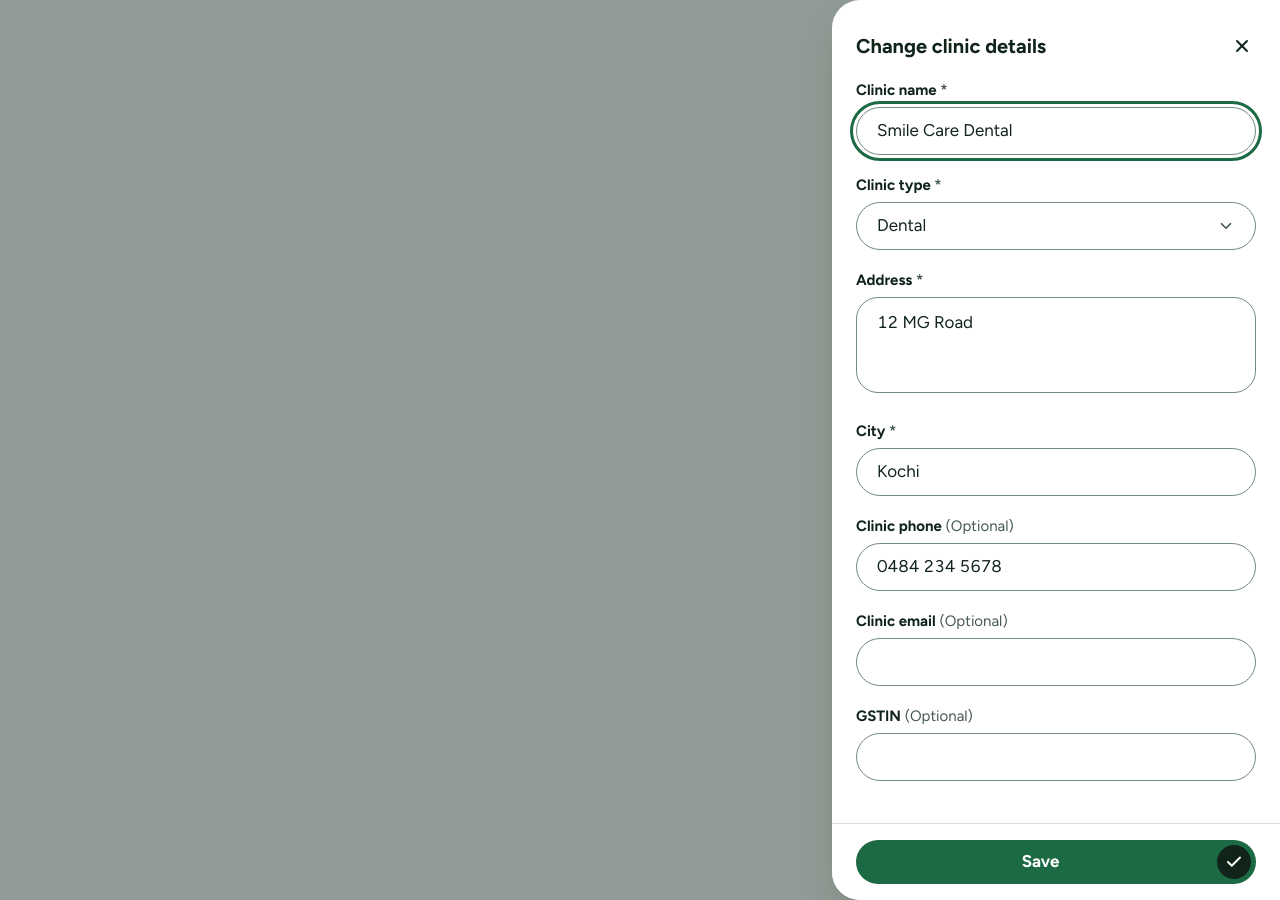
Test case: ClinicDetailsSheet (plan §9, D78) › keeps what was typed when the save fails, and says why
This screenshot has width=1280, height=900.
In the field labelled "City *": (1056,472) x1=856 y1=448 x2=1256 y2=496, type " East"
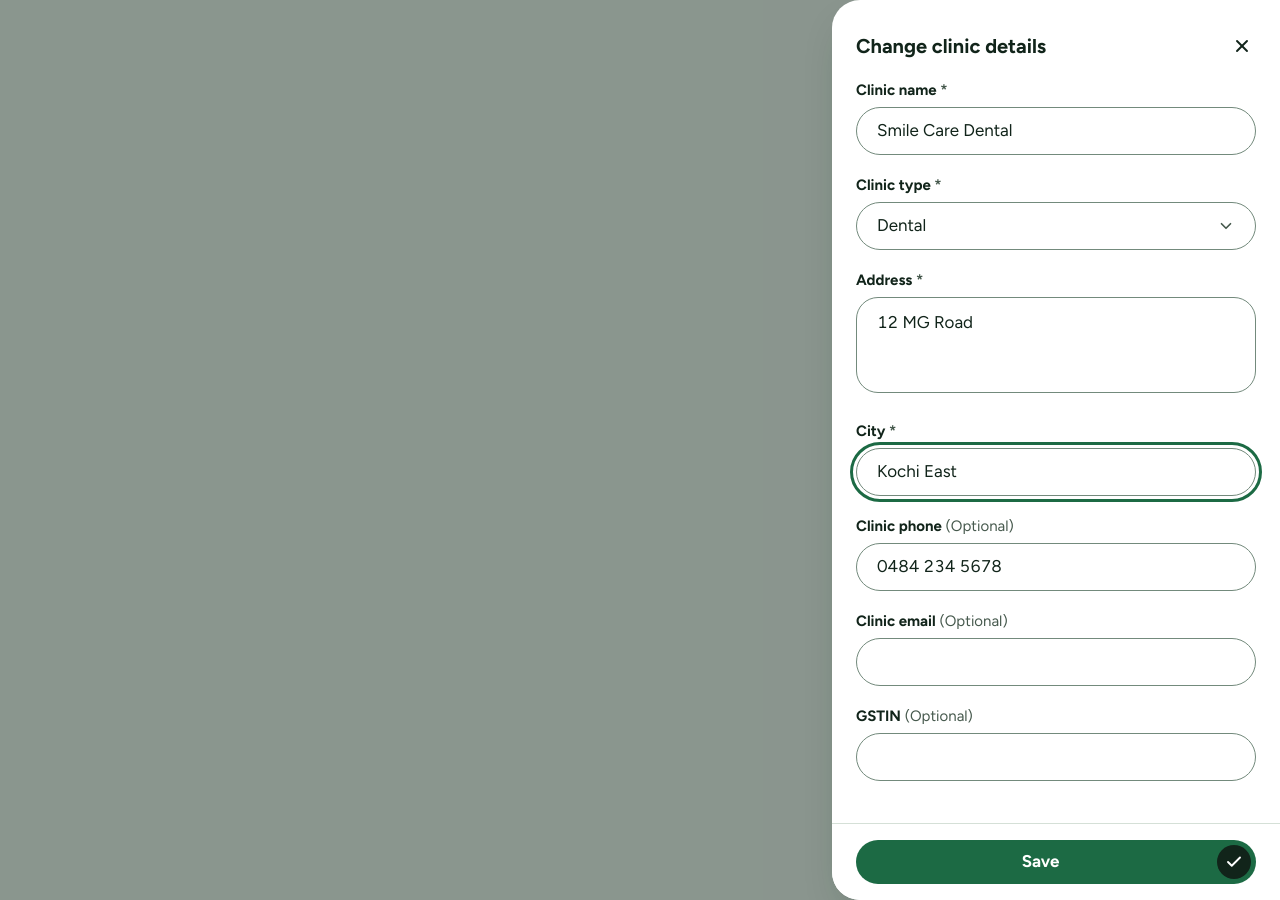
Click the button "Save": (1056,862) x1=856 y1=840 x2=1256 y2=884
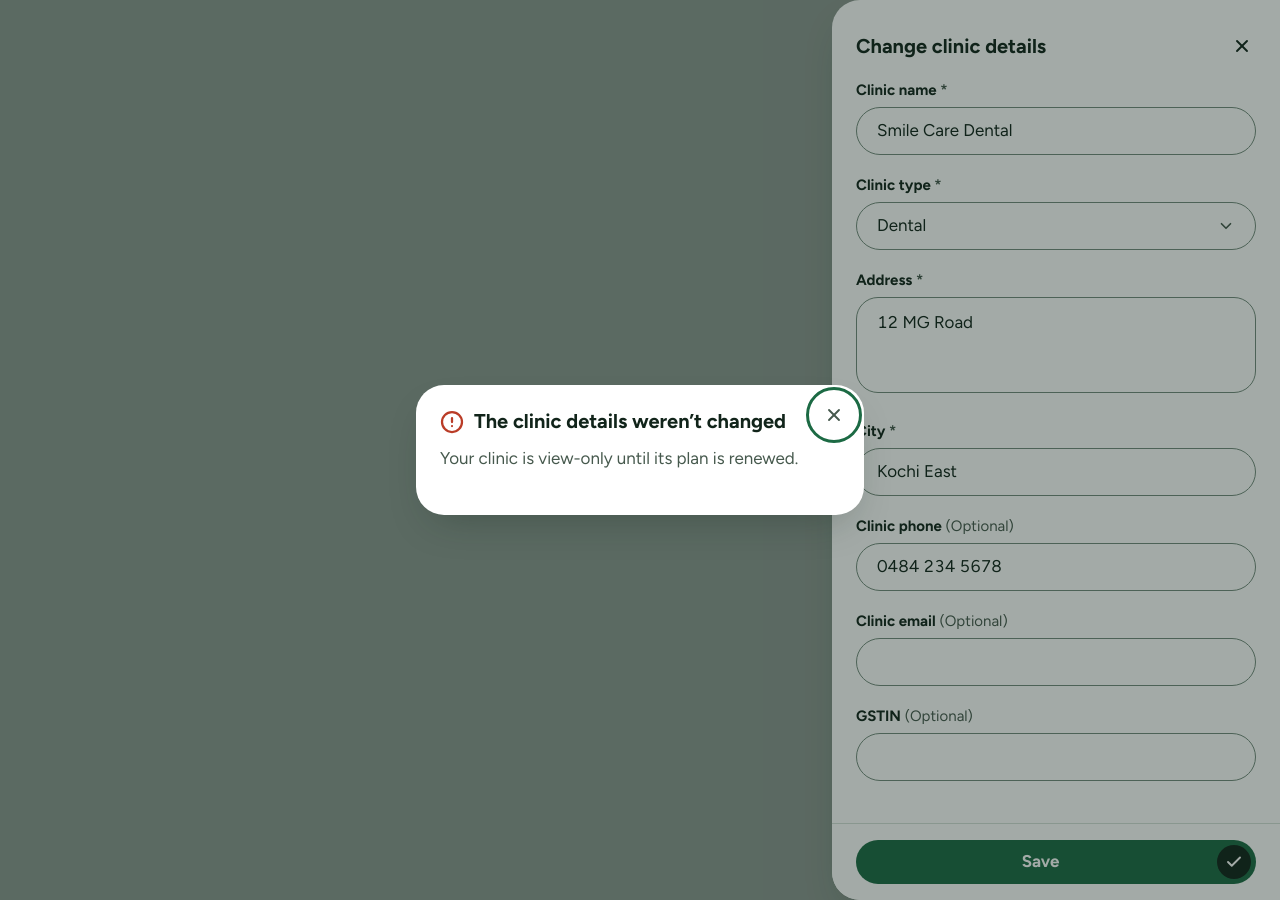
Check: the field labelled "City *" holds "Kochi East", box x1=856 y1=448 x2=1256 y2=496
Check: the dialog "The clinic details weren’t changed" shows "Your clinic is view-only until its plan is renewed.", box x1=440 y1=448 x2=798 y2=468
